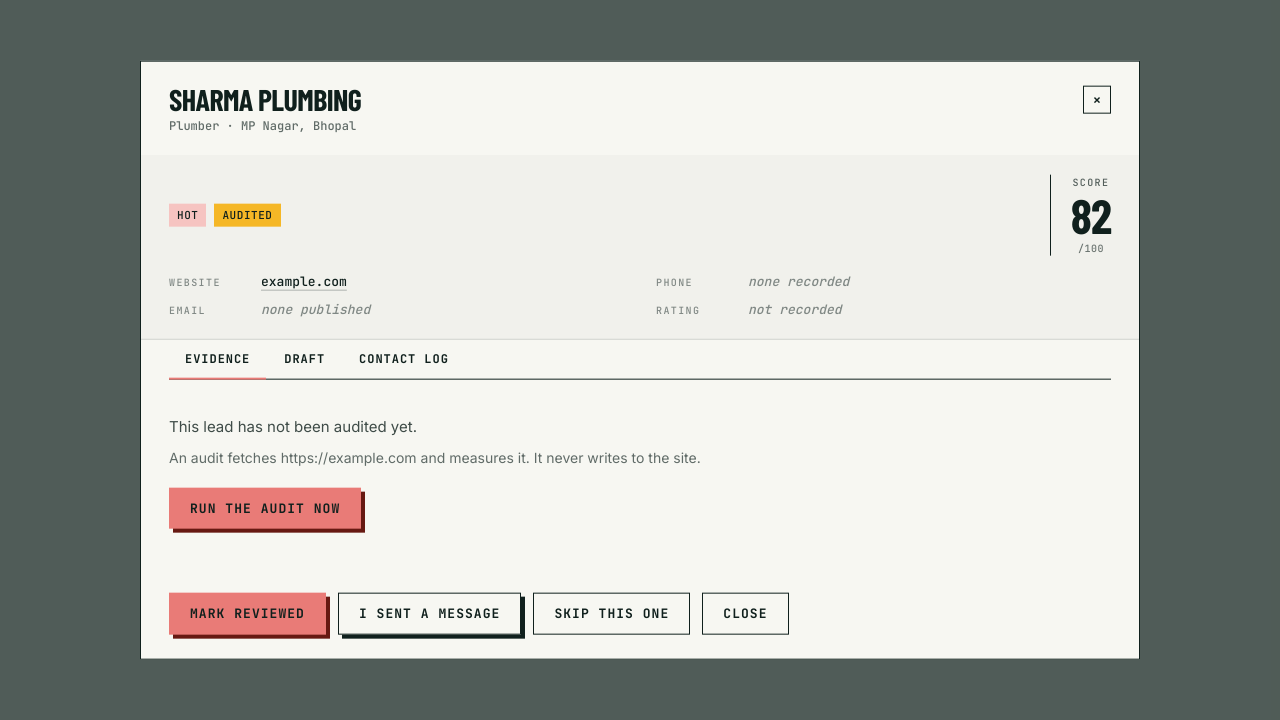
Test case: the draft tab › offers every language when nothing has been written yet
Click the tab "Draft": {"x": 305, "y": 360} [268,340,341,380]
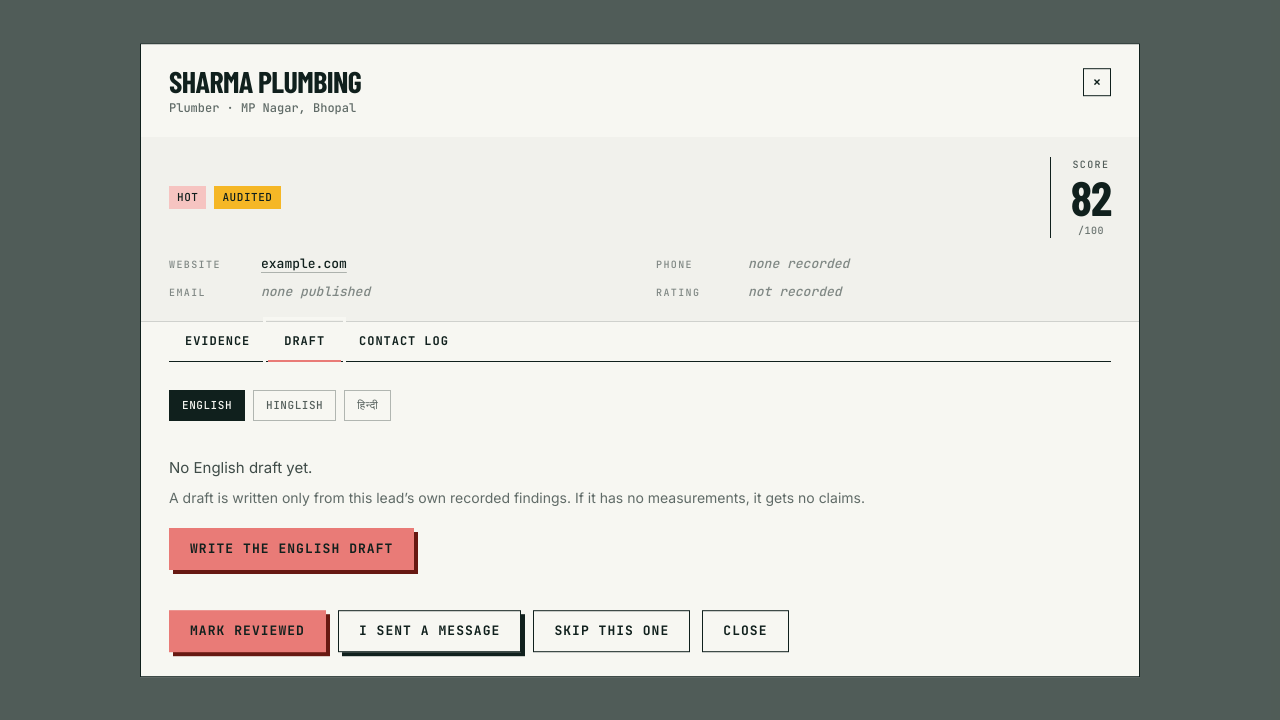
Now the text "No English draft yet." is shown, box [169,458,312,477]
Now the button named "English — no draft yet" is shown, box [169,390,245,421]
Now the button named "Hinglish — no draft yet" is shown, box [253,390,336,421]
